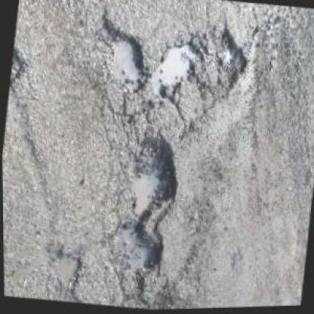Hueco: (118, 132, 186, 228), (90, 19, 154, 100), (150, 37, 206, 112), (104, 219, 169, 281), (208, 26, 254, 93), (43, 245, 87, 292), (9, 45, 29, 87)
